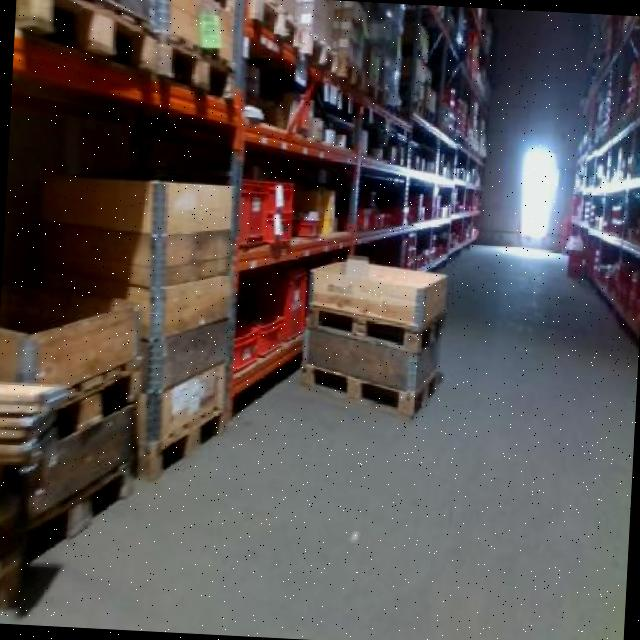pallet: (0, 442, 143, 587), (21, 351, 156, 462), (126, 387, 242, 499), (17, 0, 164, 85), (295, 354, 449, 425), (298, 296, 450, 361), (153, 17, 249, 108)
